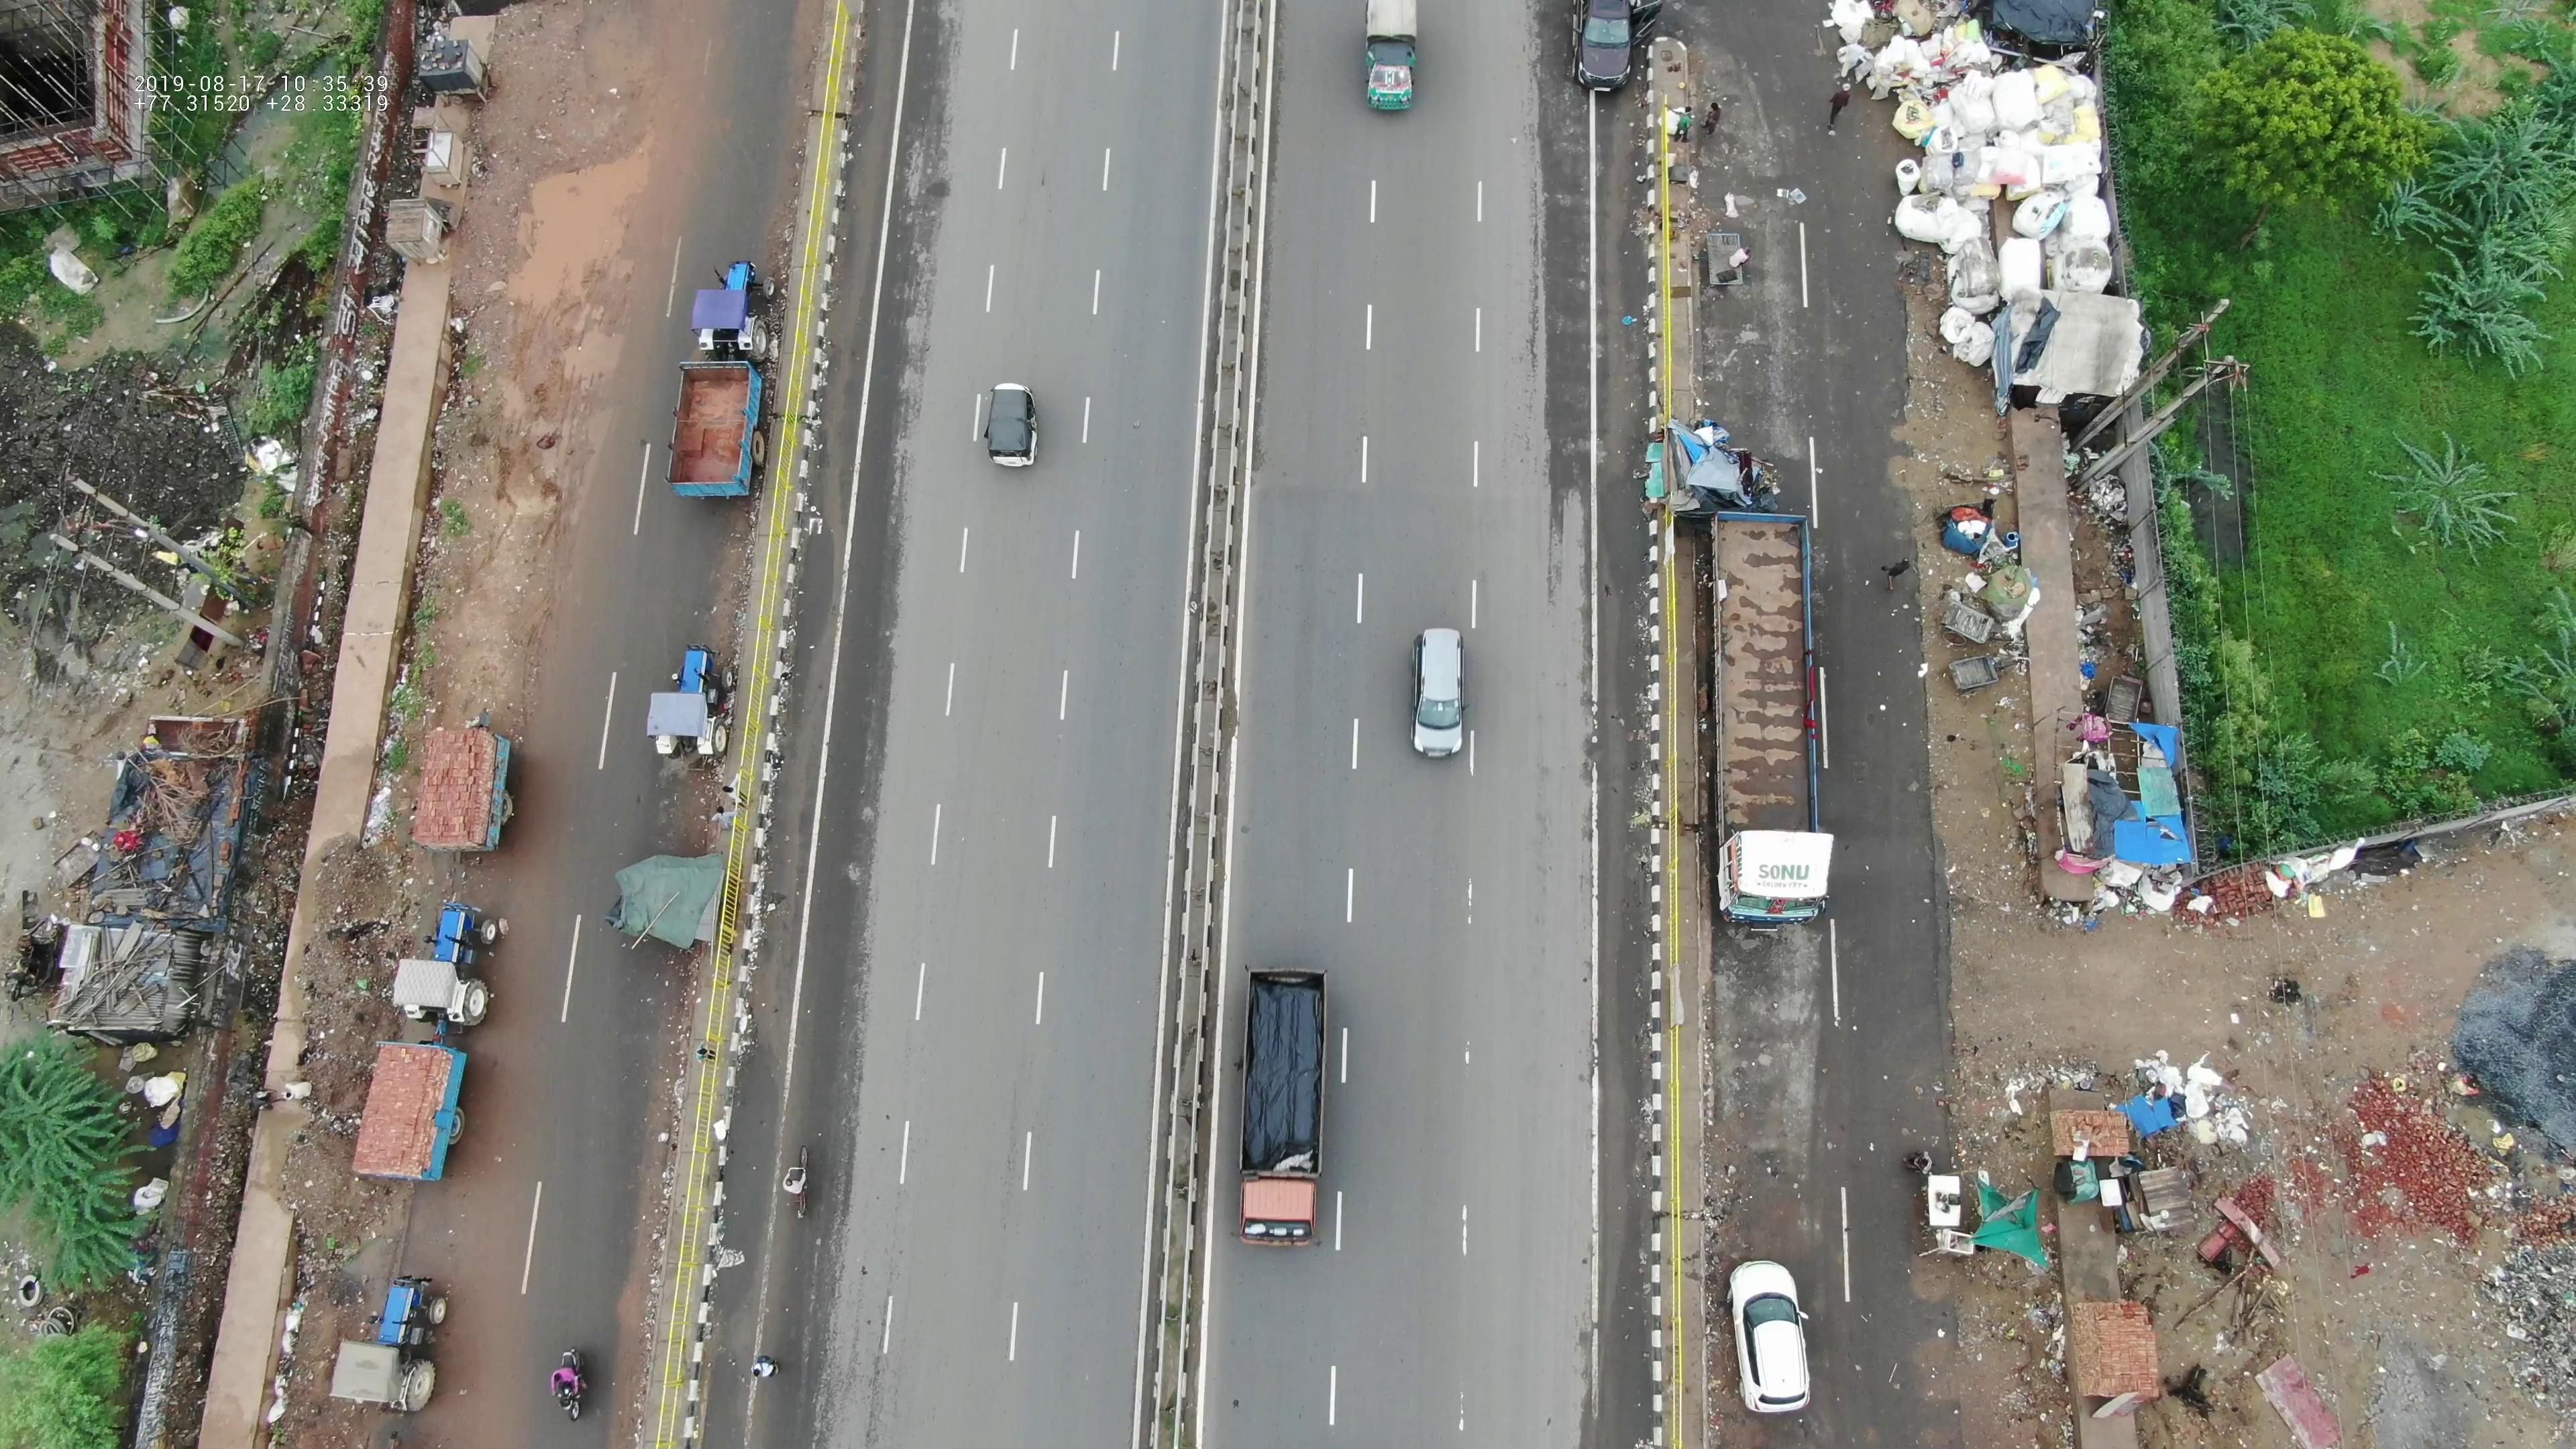Muddy_road: (435, 322, 594, 653)
Waterlogging: (462, 119, 667, 278)
